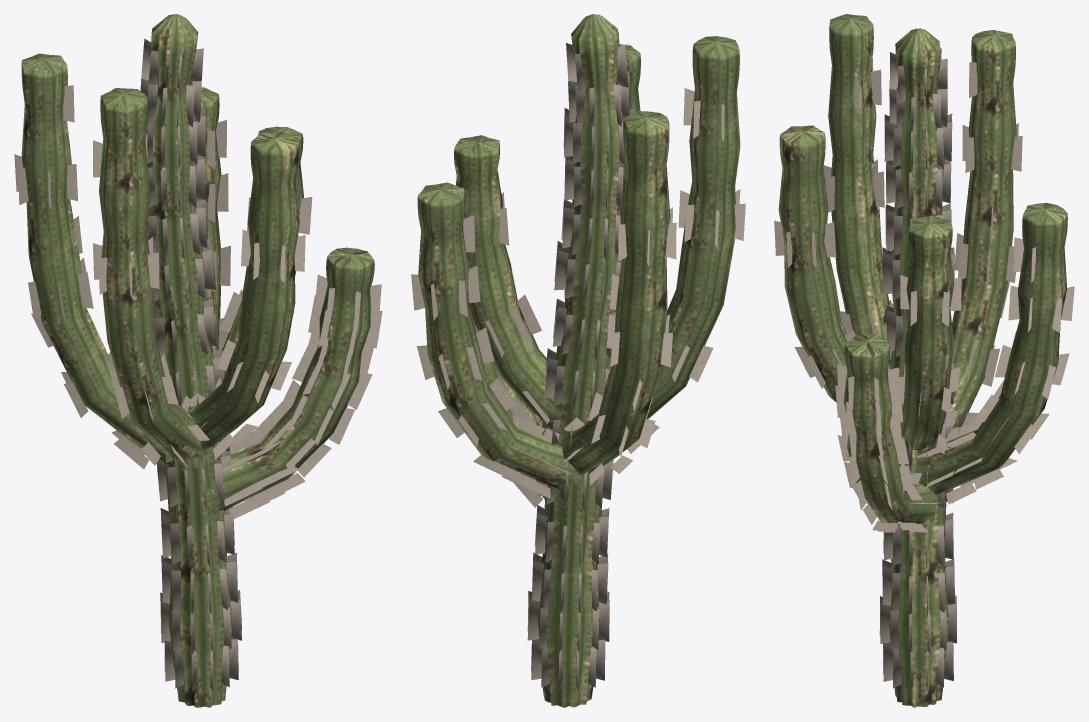
File: cactus3.obj
3 views of the same model, side by side, from view 1: azimuth 30°, elevation 25°; view 2: azimuth 150°, elevation 25°; view 3: azimuth 270°, elevation 25° (orthographic). The views are drawn at different scales.
Parts seen in each view (by area): view 1: plant07, thorns; view 2: plant07, thorns; view 3: plant07, thorns.
Boxes of the visible parts, x1,y1,x2,y2 form: plant07: (21,14,374,707); thorns: (14,38,382,691); plant07: (417,14,740,707); thorns: (411,43,745,691); plant07: (778,14,1067,707); thorns: (774,46,1074,691).
Bounding box in the file's own units: 102 × 229 × 94.87.
2 materials, 2 textured.
